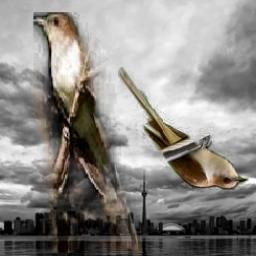Cuckoo: (33, 13, 140, 254), (117, 68, 248, 191)
